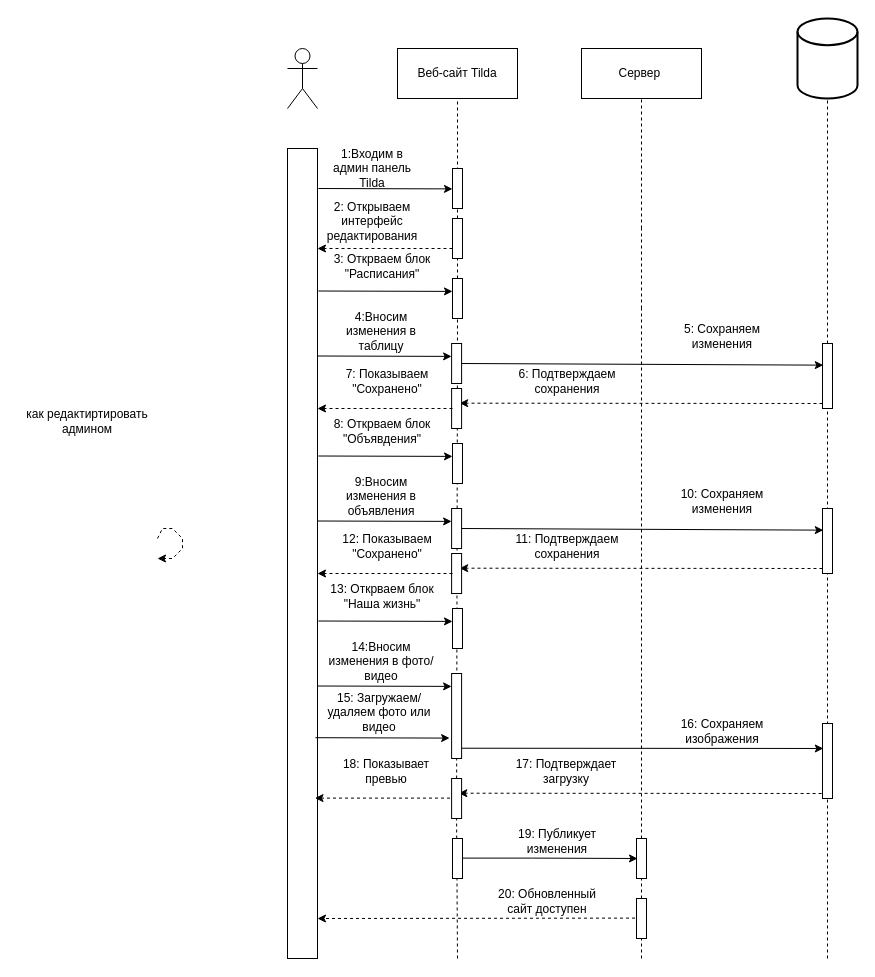
The diagram is 875 pixels wide and 977 high, and some of its shapes have lost their labels. Here are the shapes that lost their labels. From the top down, the box of each, then its label:
(286, 48, 318, 108): Администратор
(796, 17, 858, 99): База данных Tilda
